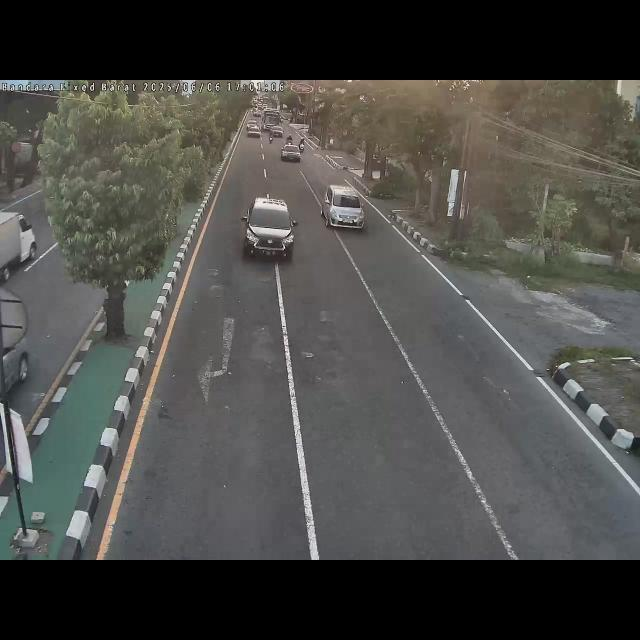Mobil: (240, 192, 300, 268), (320, 183, 370, 233), (280, 142, 302, 164)
